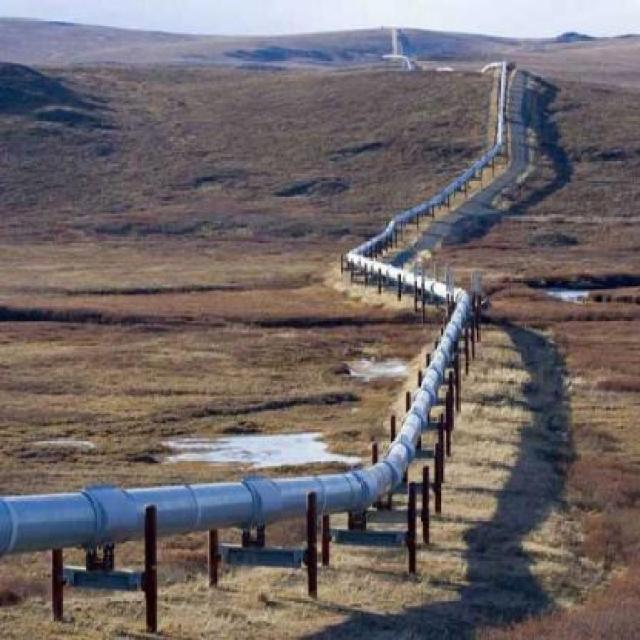gas: (3, 64, 510, 551)
